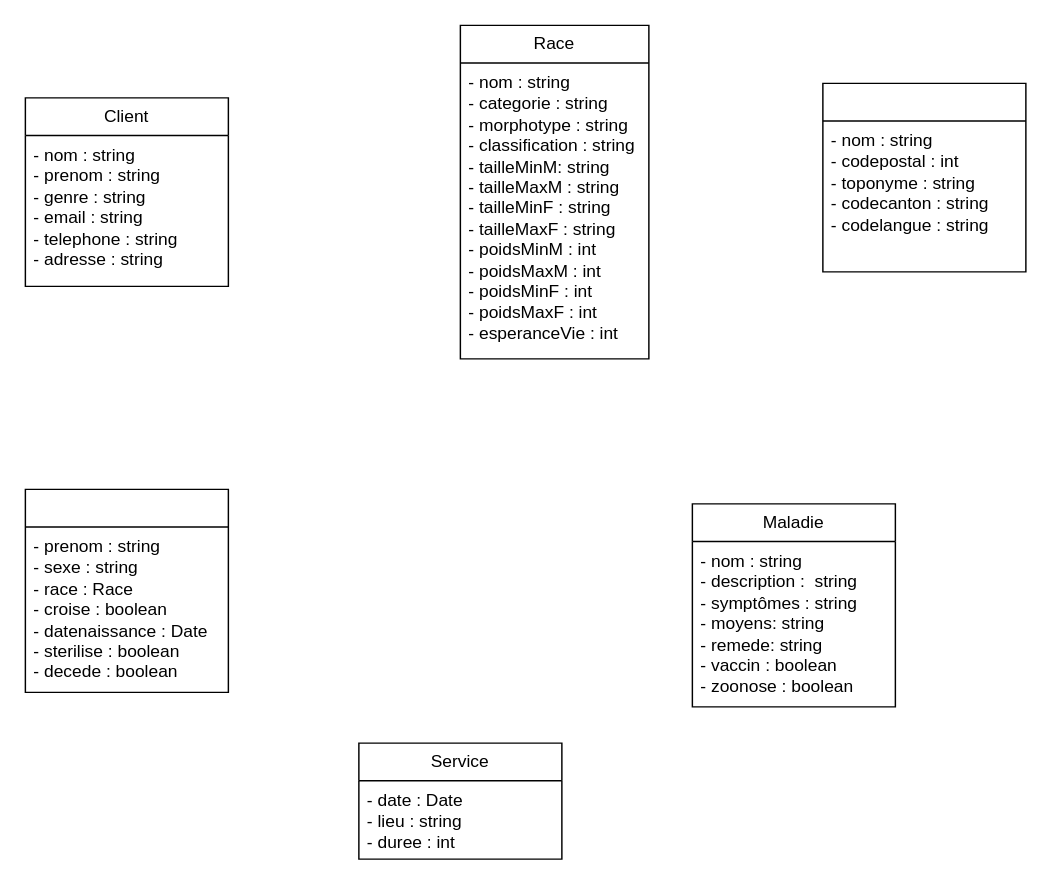
Image size: 1051x889. Some labels were removed from this diagram. Each missing label, with the box of its shape:
Chien: (24, 488, 228, 692)
Localité: (821, 82, 1026, 272)
